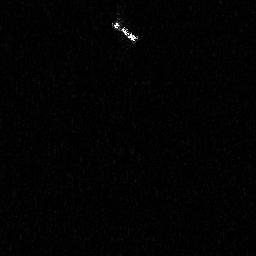ship: (112, 20, 138, 43)
